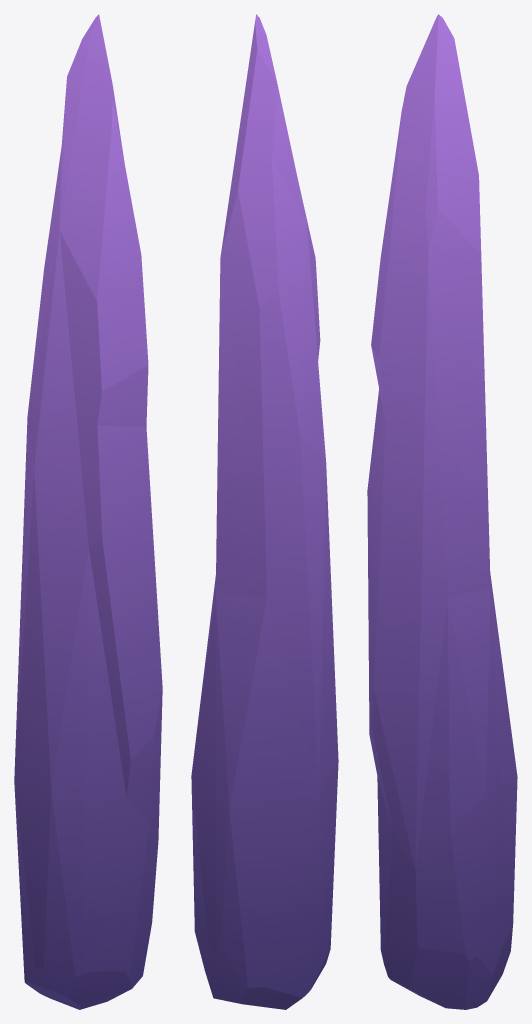
File: Crystal_P_25.glb
The picture shows the model from 3 angles, left to right: view 1: azimuth 30°, elevation 25°; view 2: azimuth 150°, elevation 25°; view 3: azimuth 270°, elevation 25°; orthographic projection.
Visible parts, largest first — view 1: crystal_25; view 2: crystal_25; view 3: crystal_25.
Boxes of the visible parts, x1,y1,x2,y2 form: crystal_25: (14, 14, 162, 1009); crystal_25: (191, 14, 338, 1009); crystal_25: (367, 14, 517, 1009).
Bounding box in the file's own units: 0.1353 × 1 × 0.138.
Materials: 1 (1 with a texture image).
